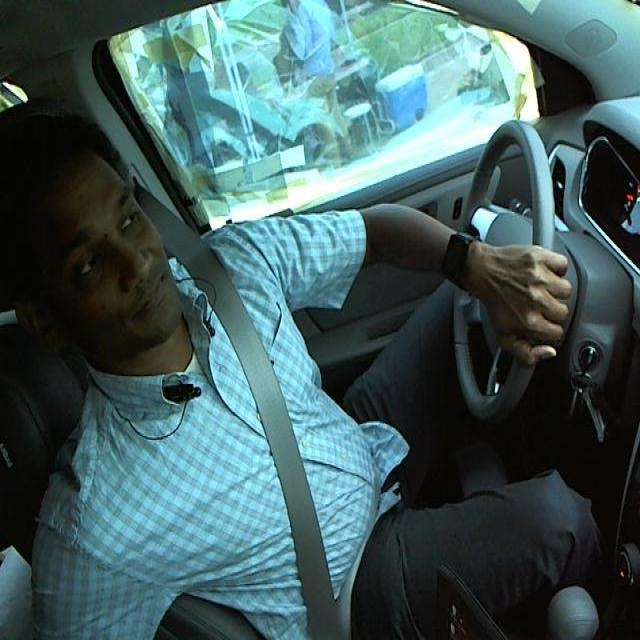seatbelt: (181, 258, 361, 626)
